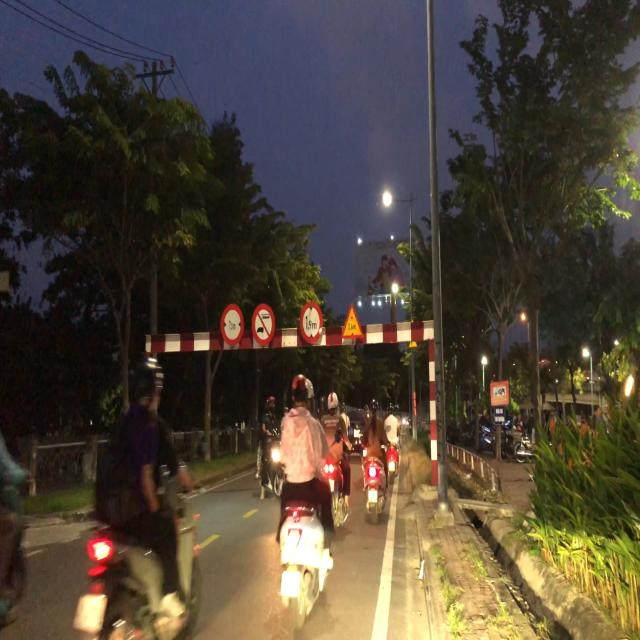Bien bao cam xe oto khach va xe oto tai: (251, 301, 278, 346)
Bien bao chieu cao tinh khong thuc te: (341, 301, 366, 347)
Bien bao han che chieu cao: (298, 296, 326, 352)
